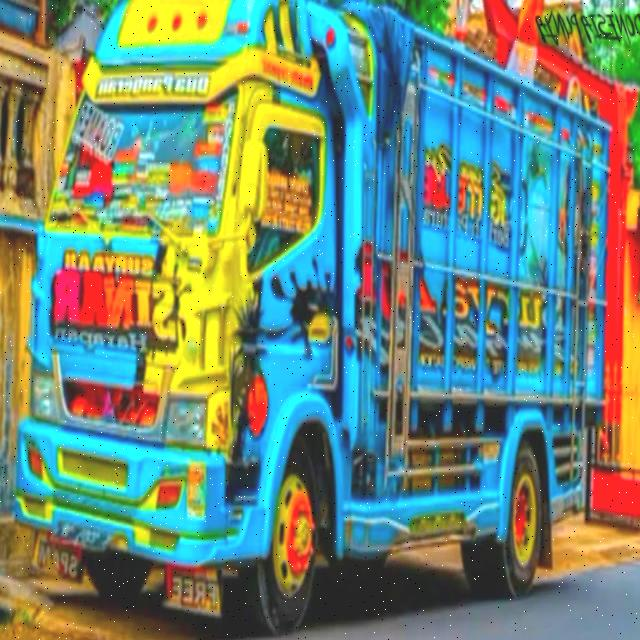truck: (16, 0, 612, 639)
